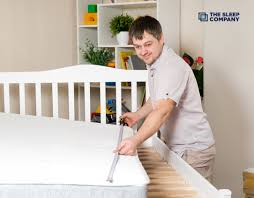bed-matress: (1, 116, 151, 198)
